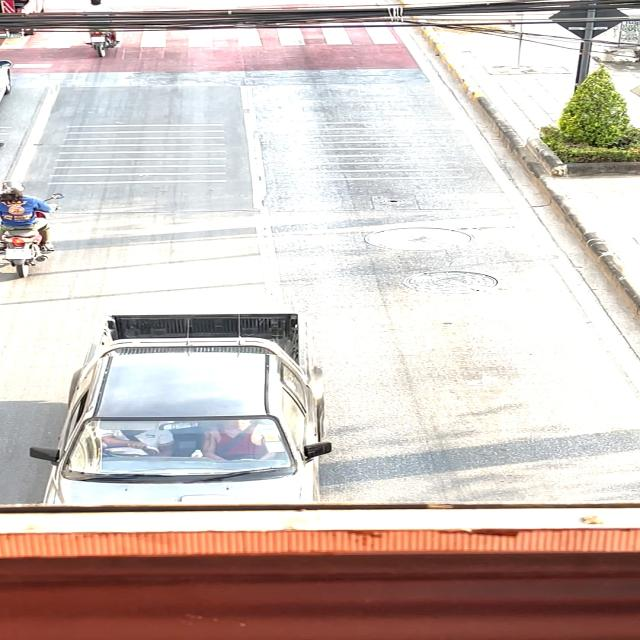car: (6, 300, 348, 511)
